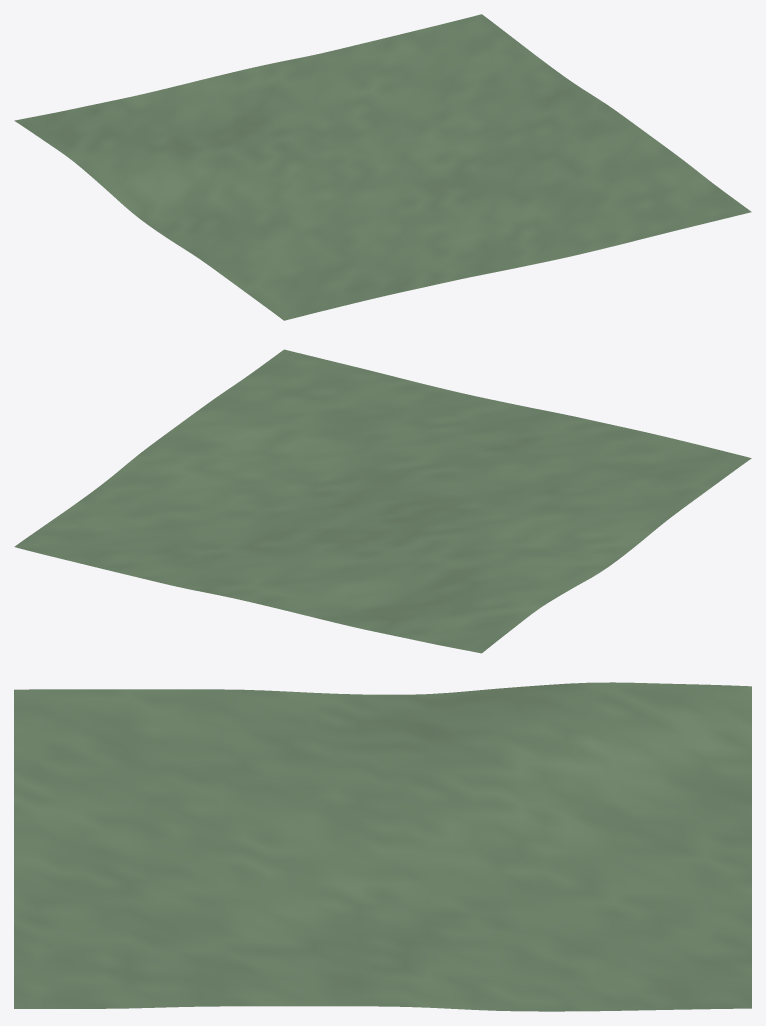
3 renders of one model, top to bottom at view 1: azimuth 30°, elevation 25°; view 2: azimuth 150°, elevation 25°; view 3: azimuth 270°, elevation 25°, orthographic. The views are drawn at different scales.
Parts seen in each view (by area): view 1: Terrain-col; view 2: Terrain-col; view 3: Terrain-col.
Part boxes in pixels (box(x1,y1,x2,y2)): Terrain-col: box(14, 14, 751, 320); Terrain-col: box(14, 349, 751, 653); Terrain-col: box(14, 682, 751, 1011).
Size of the model in its own units: 256 by 7.92 by 256.
